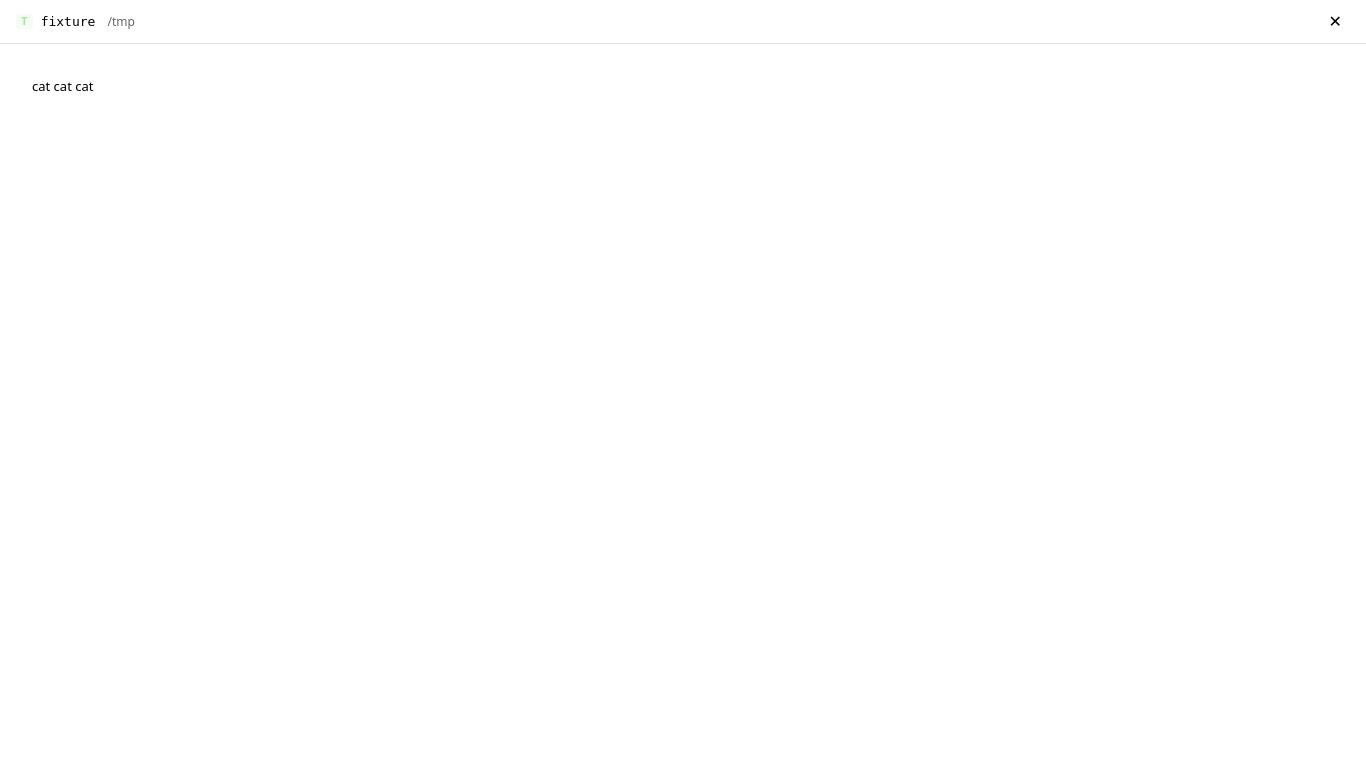
Test: App keyboard handling › shows "No matches" for a query with no hits
This screenshot has width=1366, height=768.
Press f
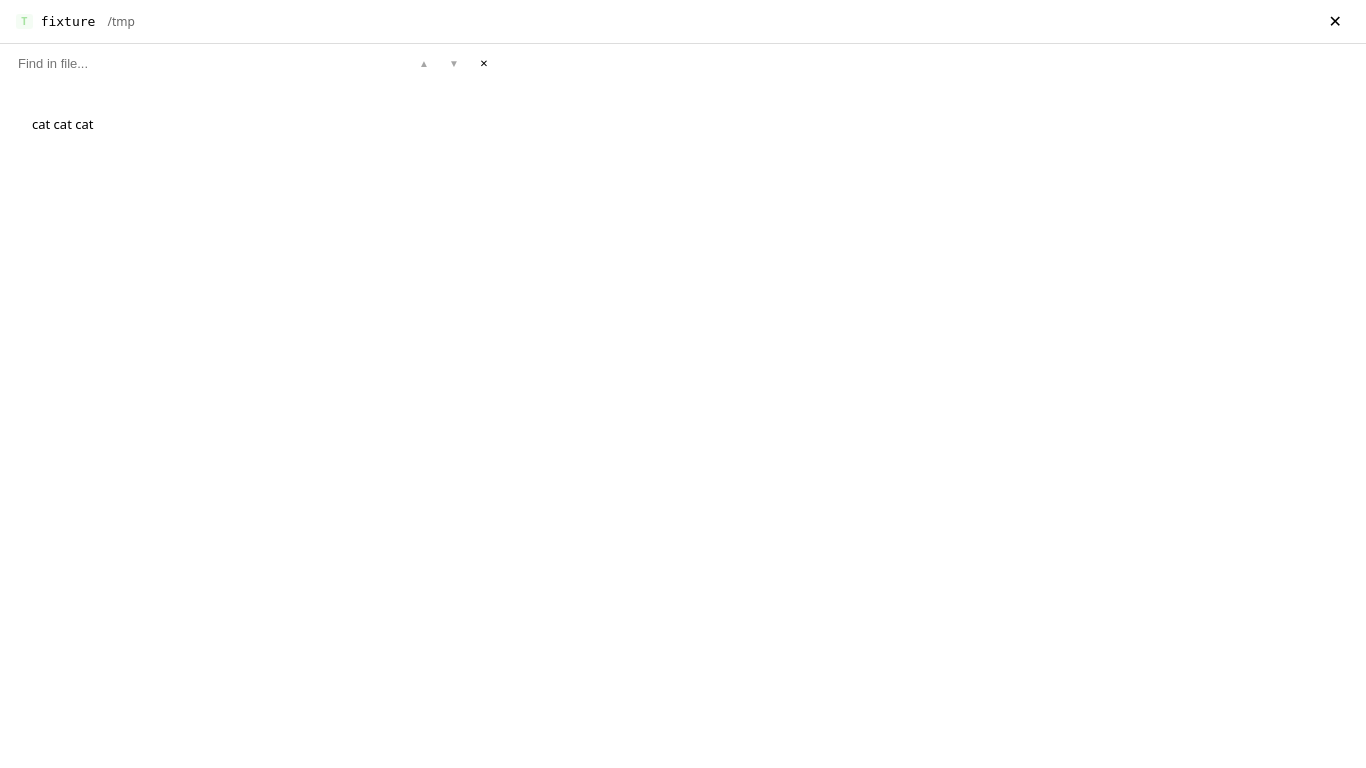
In the field with placeholder "Find in file...": point(170, 63) left=10, top=49, right=330, bottom=77, type "zzz"
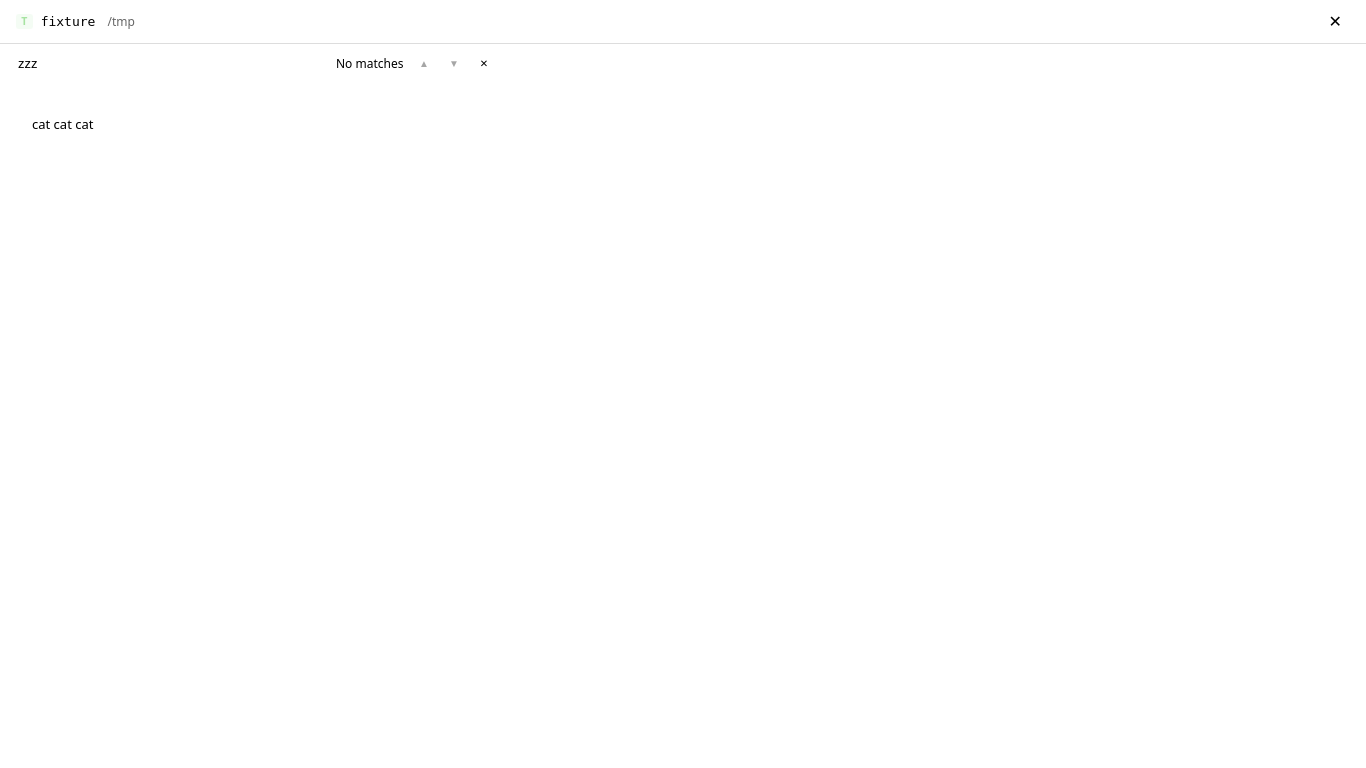
expect the text "No matches" is shown: met, box left=336, top=54, right=406, bottom=72
